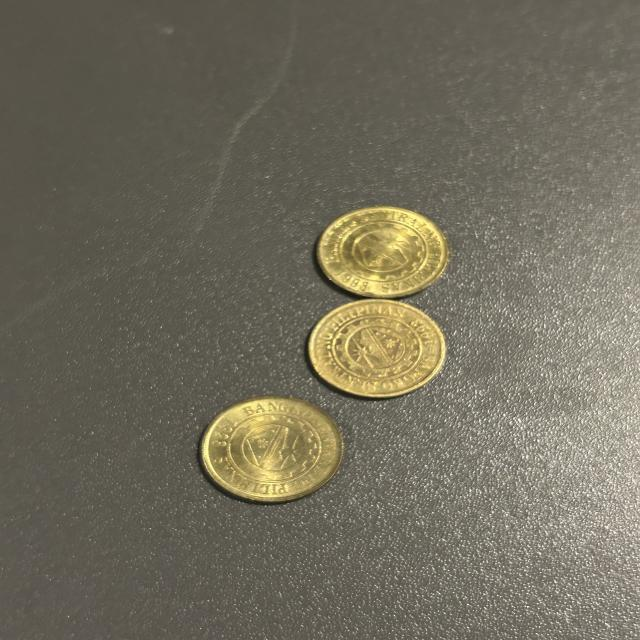25Cent_Old_Back: (225, 407, 336, 488), (326, 311, 434, 383), (334, 211, 432, 283)
